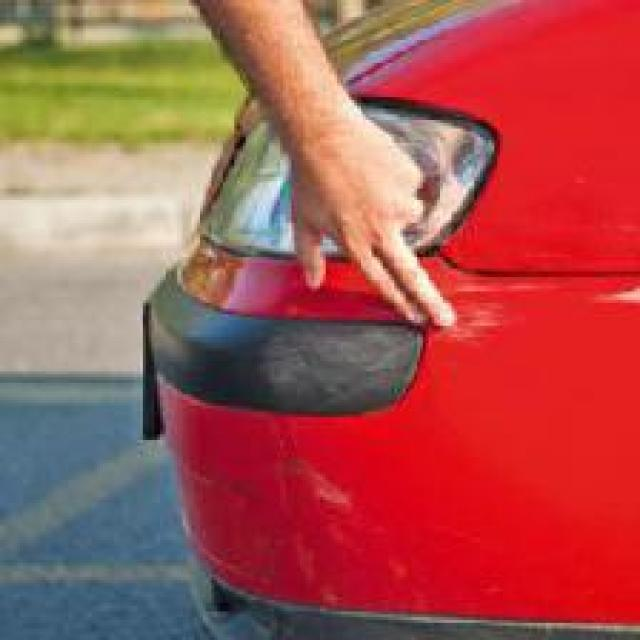damaged: (268, 300, 523, 620)
